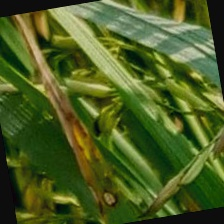Leaf_Blast: (21, 10, 105, 212)
